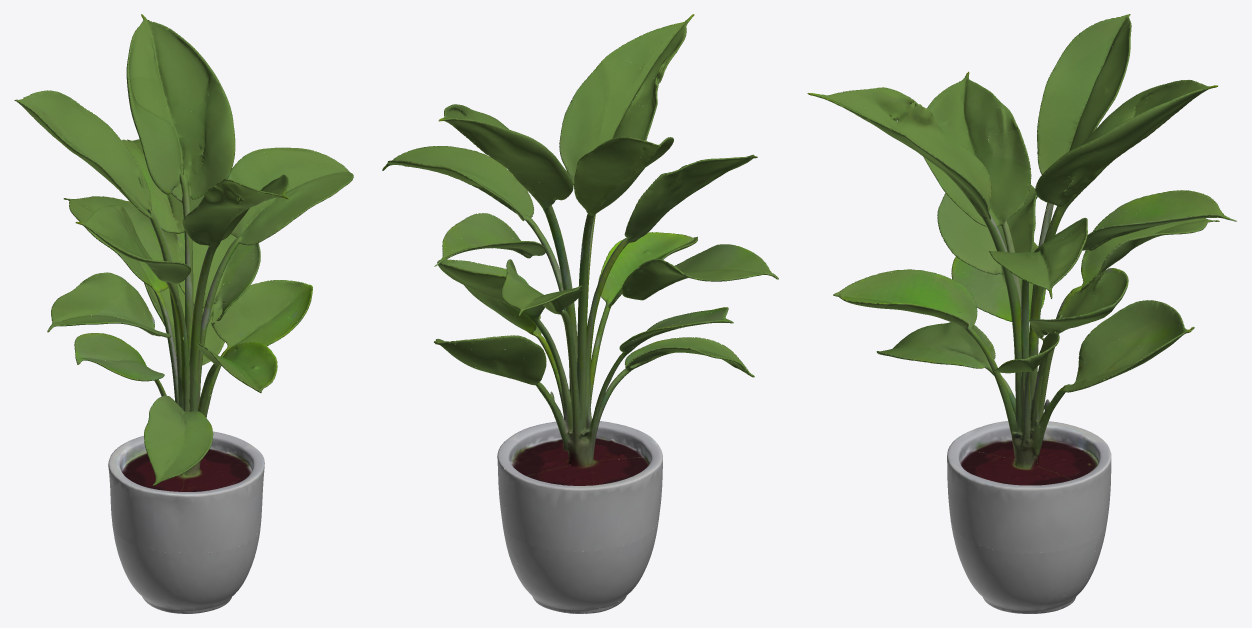
3 views of the same model, side by side, from view 1: azimuth 30°, elevation 25°; view 2: azimuth 150°, elevation 25°; view 3: azimuth 270°, elevation 25° (orthographic). The views are drawn at different scales.
Parts seen in each view (by area): view 1: tripo_node_fc2e9418-7fa7-4bd5-b1e5-7977015ec9ae; view 2: tripo_node_fc2e9418-7fa7-4bd5-b1e5-7977015ec9ae; view 3: tripo_node_fc2e9418-7fa7-4bd5-b1e5-7977015ec9ae.
Boxes of the visible parts, x1=… form: tripo_node_fc2e9418-7fa7-4bd5-b1e5-7977015ec9ae: x1=14, y1=14, x2=353, y2=613; tripo_node_fc2e9418-7fa7-4bd5-b1e5-7977015ec9ae: x1=382, y1=14, x2=778, y2=613; tripo_node_fc2e9418-7fa7-4bd5-b1e5-7977015ec9ae: x1=807, y1=14, x2=1236, y2=613.
Size of the model in its own units: 0.7071 by 1 by 0.7324.
Materials: 1 (1 with a texture image).
